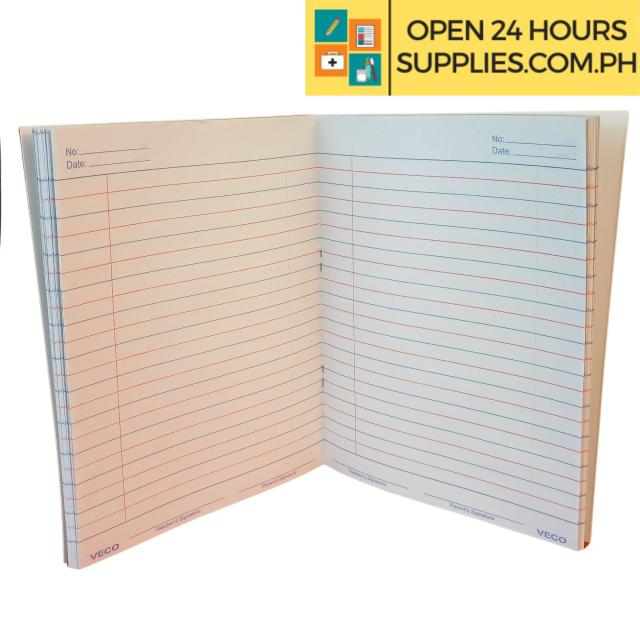notebook: (20, 102, 640, 599)
